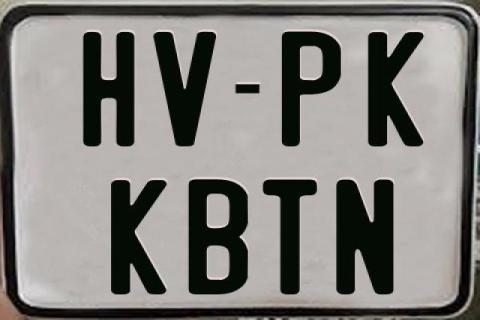B: (188, 179, 253, 297)
H: (80, 30, 132, 144)
K: (108, 179, 169, 297), (368, 30, 424, 144)
N: (335, 177, 399, 295)
P: (279, 29, 343, 149)
T: (262, 177, 322, 295)
V: (152, 32, 217, 147)
